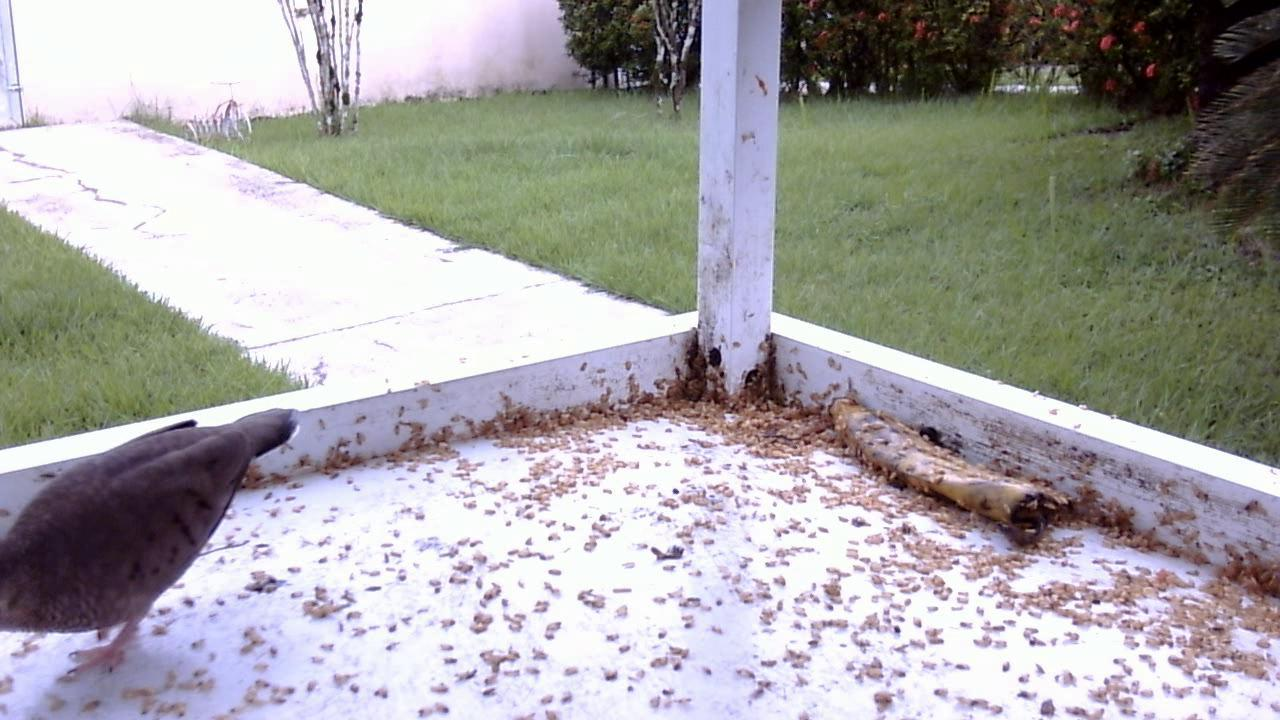rolinha: (4, 404, 305, 685)
